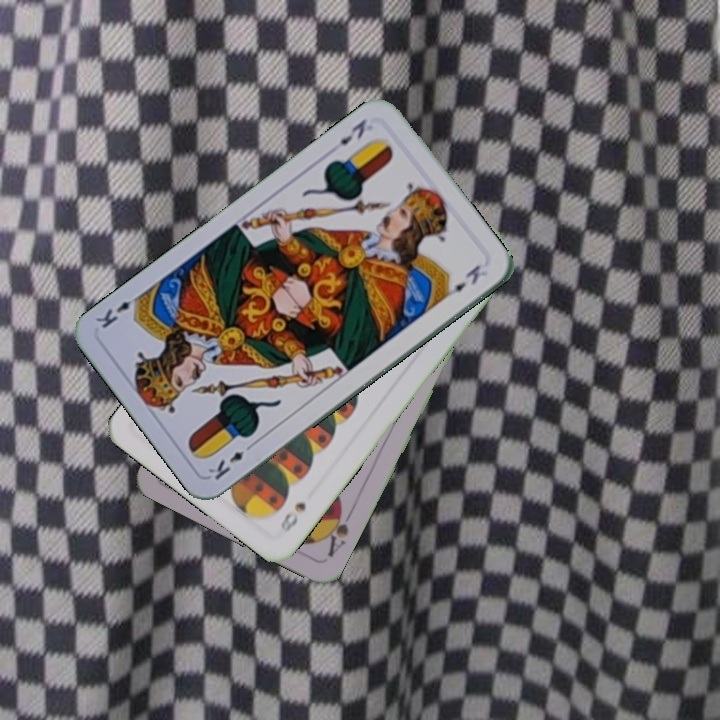EK: (204, 438, 258, 483), (335, 115, 369, 148)
S8: (276, 498, 309, 536)
SA: (318, 501, 356, 560)
